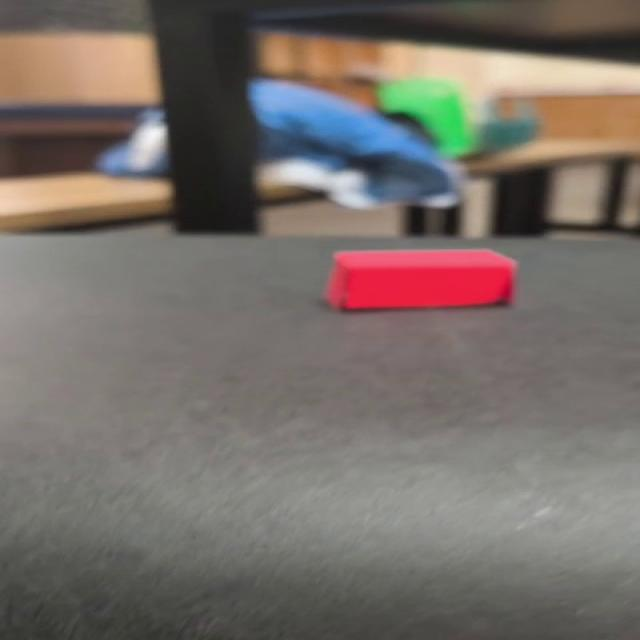red block: (324, 248, 517, 311)
